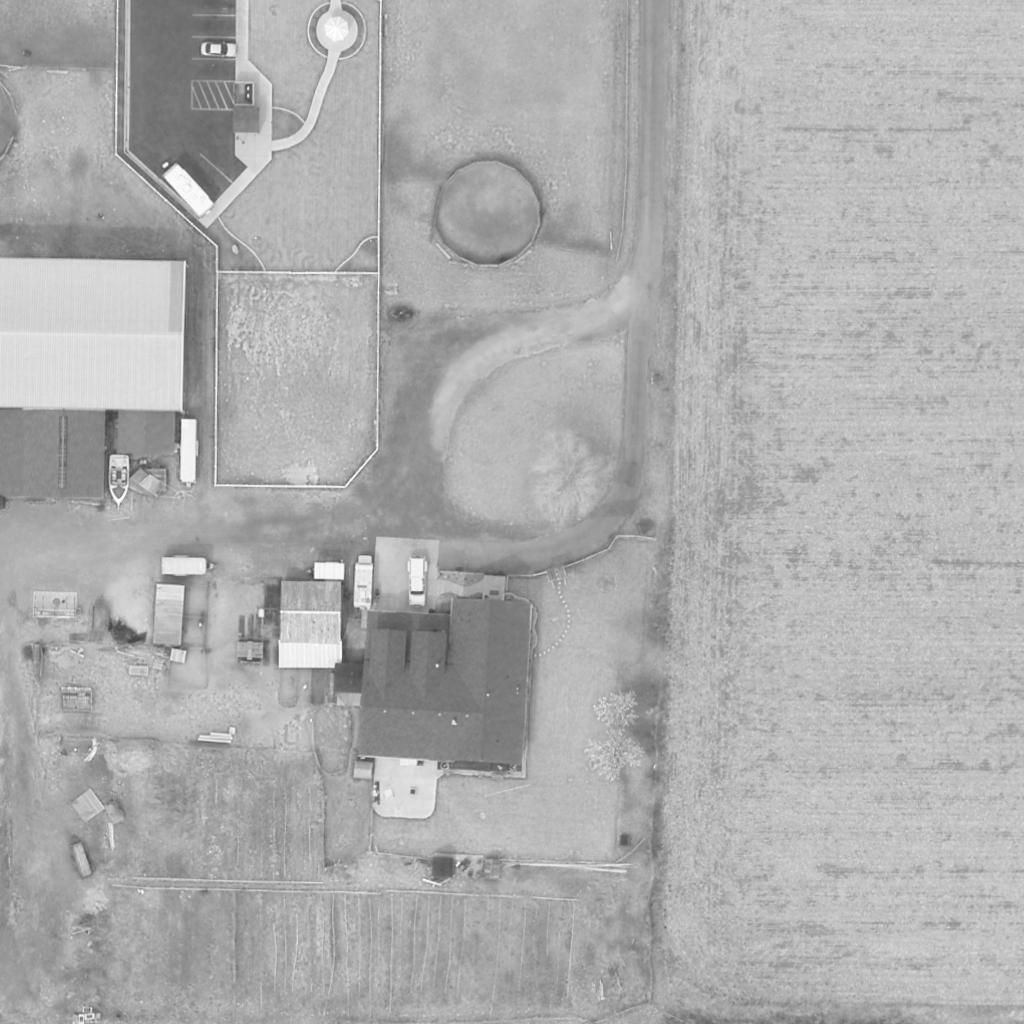vehicle: (160, 158, 216, 220), (179, 419, 199, 487), (108, 455, 132, 507), (406, 557, 432, 605), (354, 558, 376, 610), (158, 558, 210, 576), (201, 41, 235, 57), (311, 564, 345, 580)
